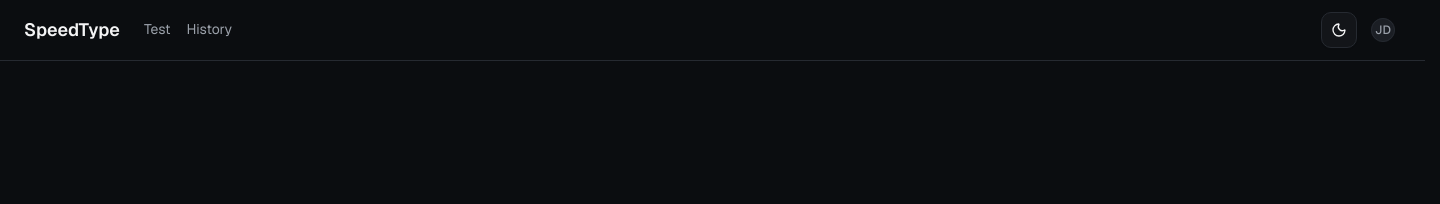
Test: Header › shows the account menu with the user's name and initials when authenticated
Click the button with aria-label "Account menu" at (1383, 30), box [1365,12,1401,48]
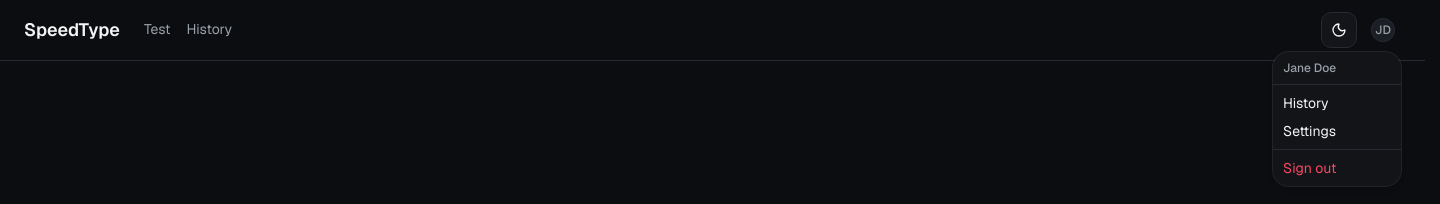
Expected: the text "Jane Doe" is shown, [1283,60,1336,76]
